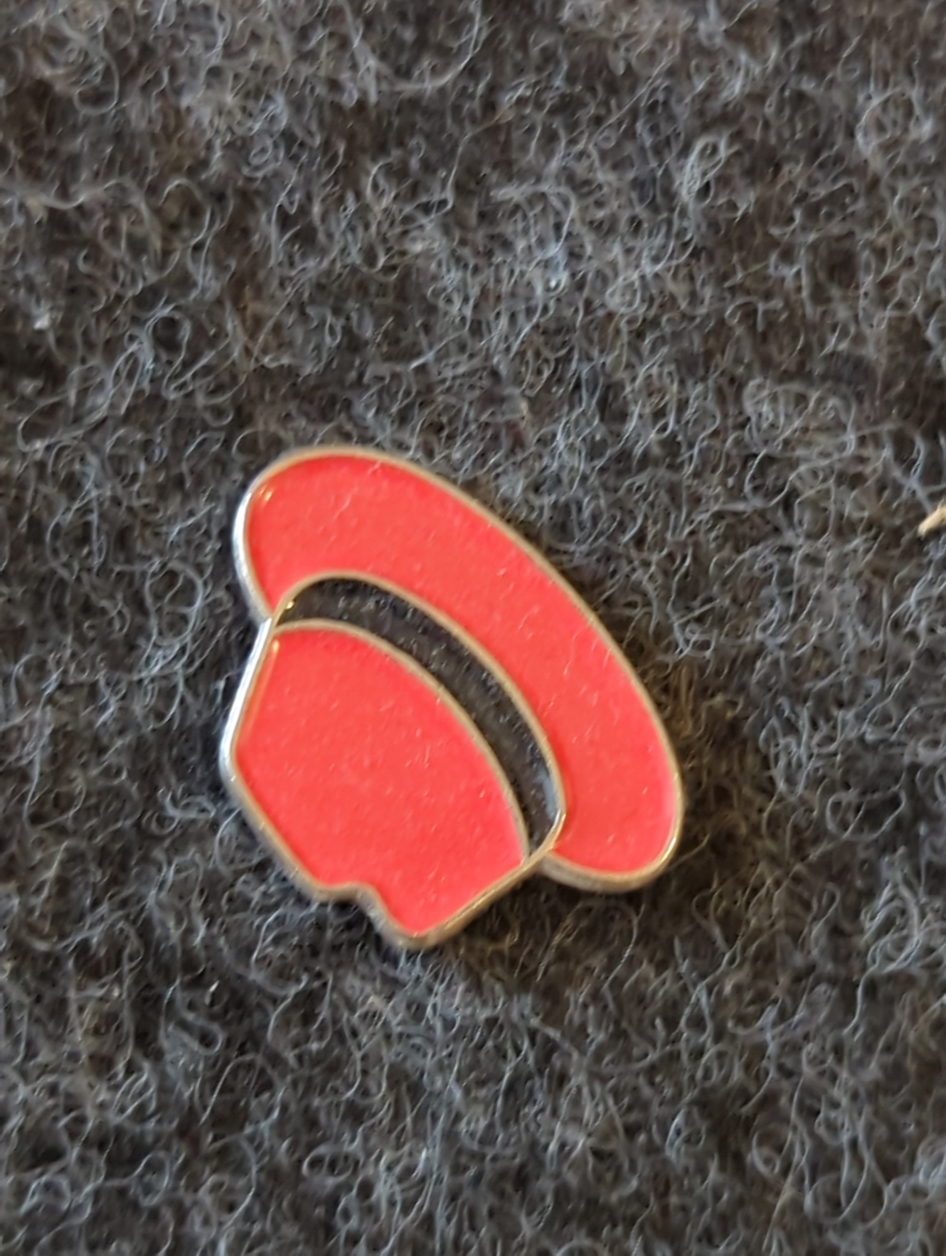Red-Hat: (128, 363, 775, 1030)
